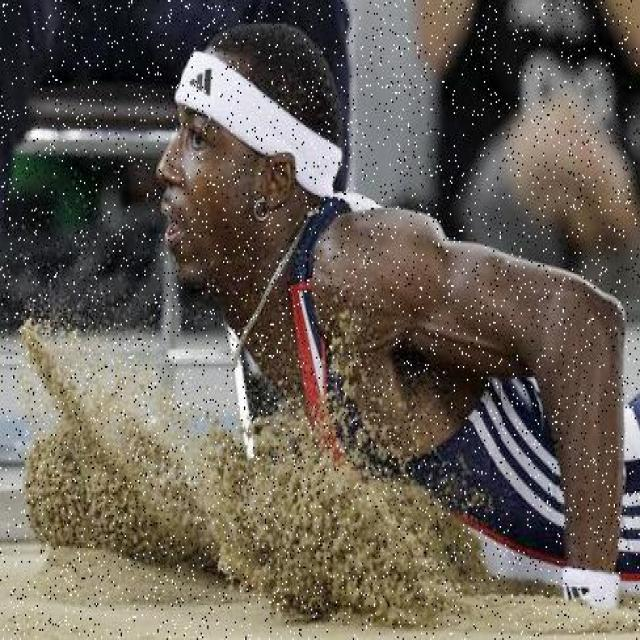fall: (164, 48, 639, 618)
